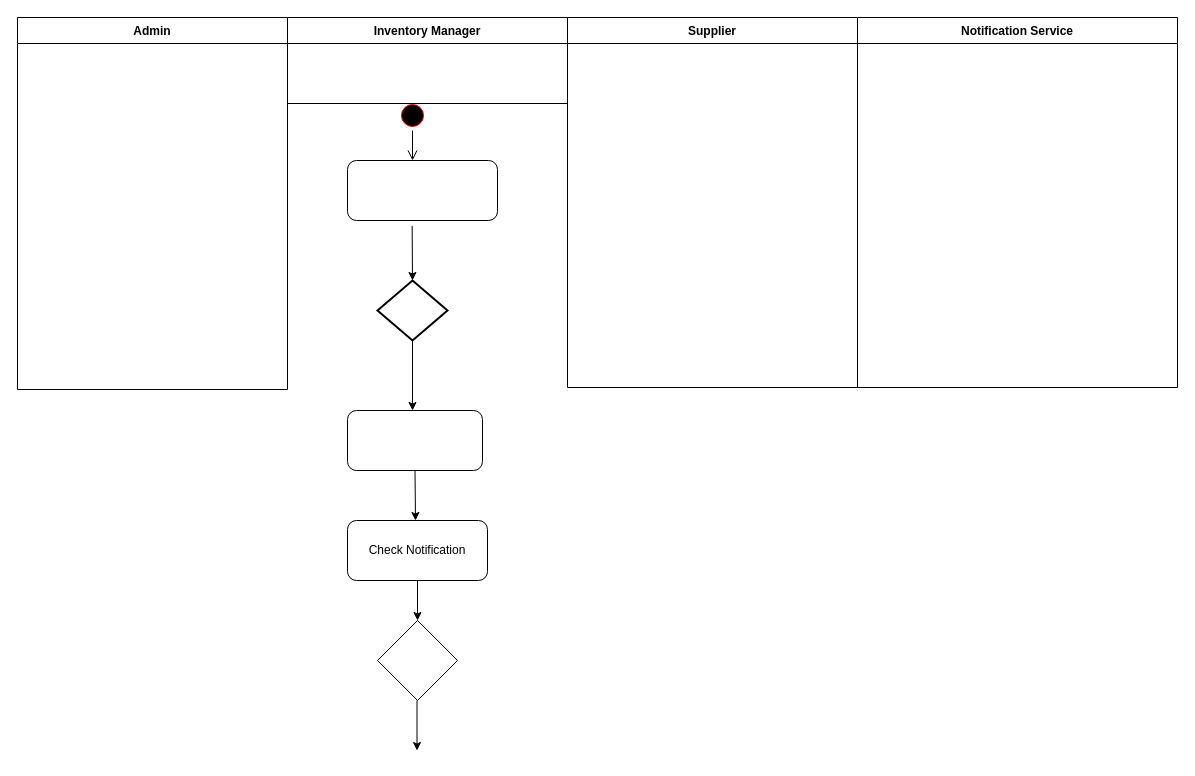
This 1195x776 diagram has some shape labels left out. The shapes that lost their labels are listed below. From the top down, each one's box as (x1, y1, x2, y2) in pixels, then its label:
(346, 160, 498, 220): Login
(346, 410, 482, 470): Profile Dashboard
